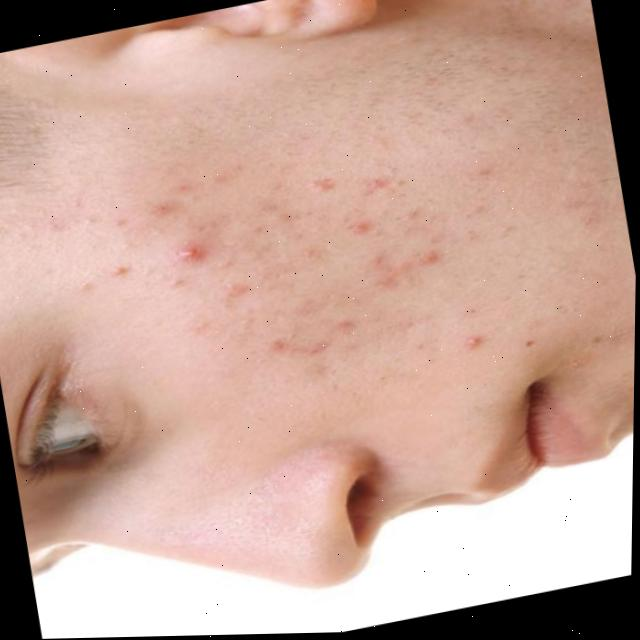Acne: (87, 132, 426, 435)
